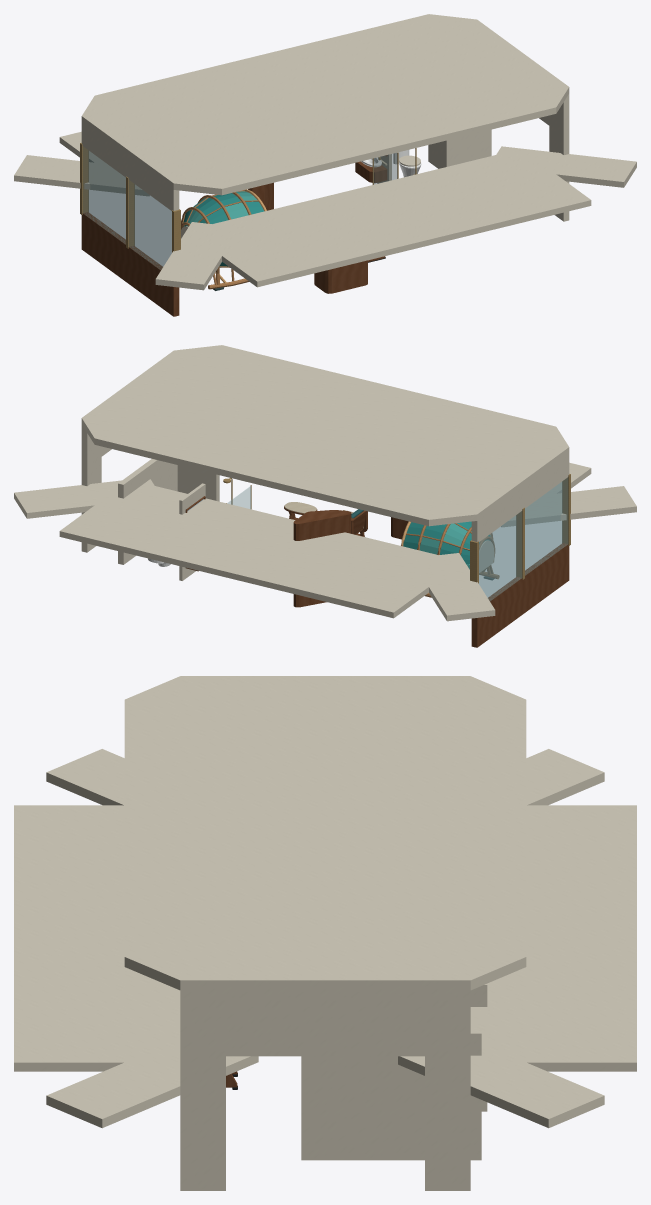
Rendered from D04_PORT_FORWARD_HOME_904_r001.glb.
The picture shows the model from 3 angles, top to bottom: view 1: azimuth 30°, elevation 25°; view 2: azimuth 150°, elevation 25°; view 3: azimuth 270°, elevation 25°; orthographic projection. The views are drawn at different scales.
Visible parts, largest first — view 1: D04H904_Roof, D04H904_Shell_4, D04H904_GardenGlass, D04H904_GardenDado, D04H904_Shell_3, D04H904_Shell_5, D04H904_Shell_7, D04H904_GardenHead, D04H904_BathScreen, D04H904_BelongingsCabinet, D04H904_EntryWall_1, D04H904_Shower__SHW_SideGlass (+4 smaller); view 2: D04H904_Roof, D04H904_Shell_0, D04H904_GardenGlass, D04H904_GardenDado, D04H904_Shell_7, D04H904_Shell_5, D04H904_Shell_1, D04H904_GardenHead, D04H904_QuietWing, D04H904_BathDogleg, D04H904_EntryWall_0, D04H904_BathScreen (+4 smaller); view 3: D04H904_Roof, D04H904_Shell_4, D04H904_Shell_0, D04H904_EntryHeader, D04H904_BathDogleg, D04H904_EntryWall_0, D04H904_EntryWall_1, D04H904_Shell_3, D04H904_Shell_1, D04H904_Shell_5, D04H904_Shell_7, D04H904_BathScreen.
Boxes of the visible parts, x1=… form: D04H904_Roof: x1=81, y1=14, x2=569, y2=195; D04H904_Shell_4: x1=187, y1=149, x2=591, y2=287; D04H904_GardenGlass: x1=83, y1=146, x2=171, y2=269; D04H904_GardenDado: x1=81, y1=212, x2=179, y2=316; D04H904_Shell_3: x1=489, y1=146, x2=636, y2=187; D04H904_Shell_5: x1=155, y1=222, x2=236, y2=290; D04H904_Shell_7: x1=14, y1=155, x2=149, y2=195; D04H904_GardenHead: x1=81, y1=123, x2=179, y2=210; D04H904_BathScreen: x1=443, y1=130, x2=490, y2=167; D04H904_BelongingsCabinet: x1=314, y1=260, x2=367, y2=293; D04H904_EntryWall_1: x1=549, y1=94, x2=569, y2=221; D04H904_Shower__SHW_SideGlass: x1=373, y1=153, x2=397, y2=184; D04H904_Roof: x1=81, y1=345, x2=569, y2=526; D04H904_Shell_0: x1=59, y1=483, x2=463, y2=618; D04H904_GardenGlass: x1=479, y1=477, x2=567, y2=601; D04H904_GardenDado: x1=471, y1=543, x2=569, y2=647; D04H904_Shell_7: x1=412, y1=553, x2=495, y2=621; D04H904_Shell_5: x1=501, y1=486, x2=636, y2=526; D04H904_Shell_1: x1=14, y1=479, x2=161, y2=518; D04H904_GardenHead: x1=471, y1=454, x2=569, y2=541; D04H904_QuietWing: x1=293, y1=510, x2=351, y2=607; D04H904_BathDogleg: x1=118, y1=459, x2=177, y2=564; D04H904_EntryWall_0: x1=81, y1=425, x2=101, y2=552; D04H904_BathScreen: x1=177, y1=465, x2=219, y2=501; D04H904_Roof: x1=124, y1=676, x2=526, y2=990; D04H904_Shell_4: x1=14, y1=805, x2=234, y2=1071; D04H904_Shell_0: x1=416, y1=805, x2=636, y2=1071; D04H904_EntryHeader: x1=226, y1=990, x2=424, y2=1056; D04H904_BathDogleg: x1=301, y1=1029, x2=481, y2=1160; D04H904_EntryWall_0: x1=425, y1=990, x2=470, y2=1190; D04H904_EntryWall_1: x1=180, y1=990, x2=225, y2=1190; D04H904_Shell_3: x1=46, y1=1039, x2=258, y2=1128; D04H904_Shell_1: x1=398, y1=1044, x2=604, y2=1128; D04H904_Shell_5: x1=46, y1=749, x2=124, y2=805; D04H904_Shell_7: x1=526, y1=749, x2=604, y2=805; D04H904_BathScreen: x1=301, y1=1056, x2=311, y2=1160.
Size of the model in its own units: 15.7 by 4.16 by 11.16.
Materials: 35 (20 with a texture image).
